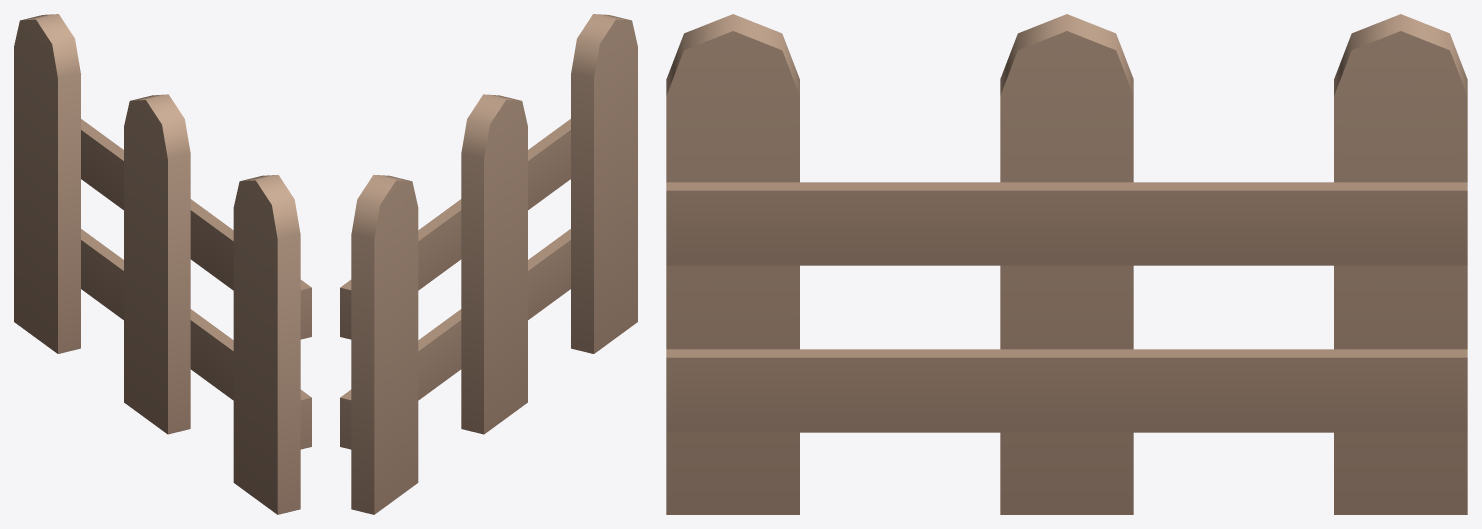
The model's file is fence-picket-round.glb.
3 views of the same model, side by side, from view 1: azimuth 30°, elevation 25°; view 2: azimuth 150°, elevation 25°; view 3: azimuth 270°, elevation 25° (orthographic). The views are drawn at different scales.
Parts seen in each view (by area): view 1: fence-picket-round; view 2: fence-picket-round; view 3: fence-picket-round.
Part boxes in pixels (x1,y1,x2,y2): fence-picket-round: (14,14,311,514); fence-picket-round: (340,14,637,514); fence-picket-round: (666,14,1467,514).
Size of the model in its own units: 0.0945 by 0.84 by 1.26.
